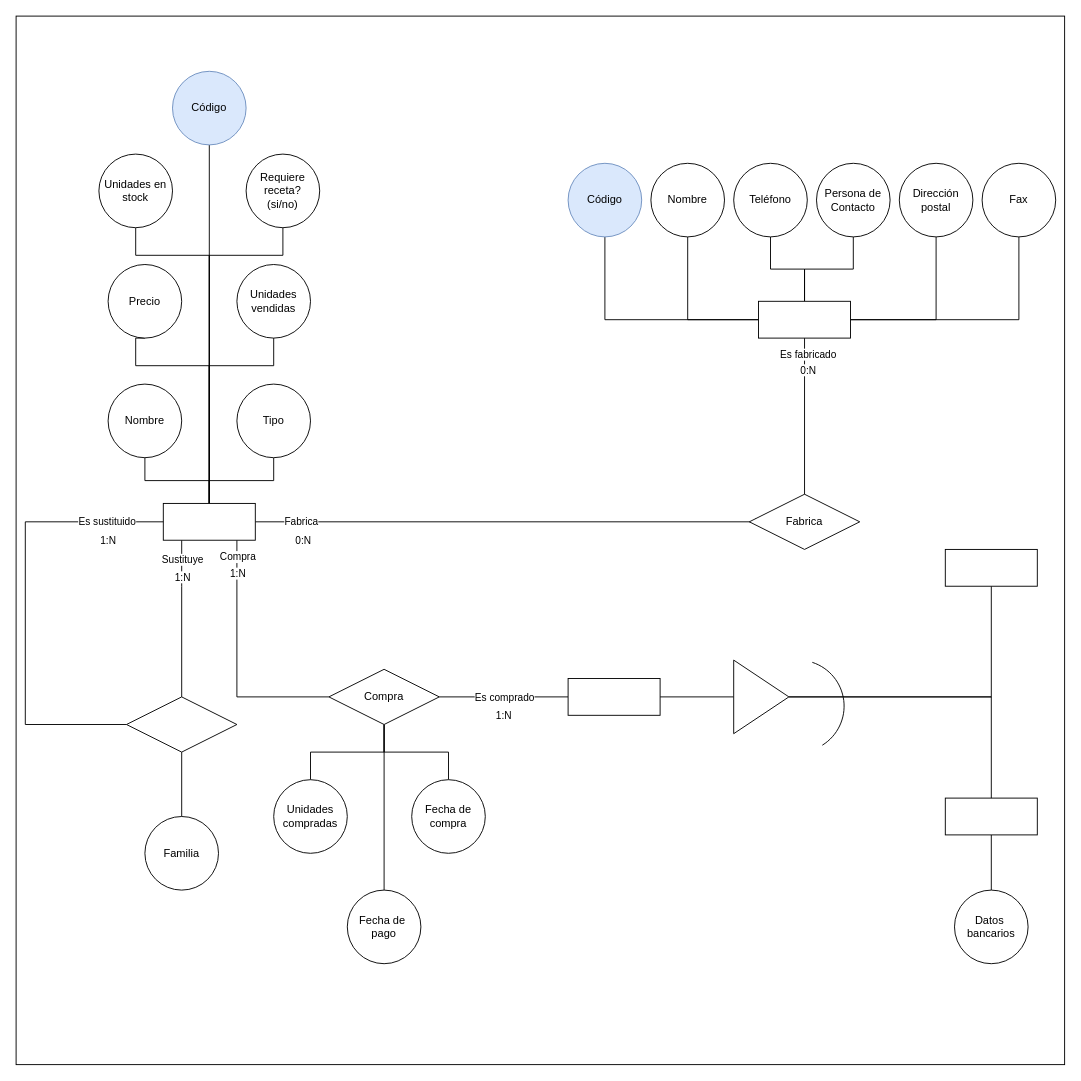
This 1081x1081 diagram has some shape labels left out. The centre of each missing label's shape, as x and y in pixels:
Cliente: the point at 613,696
Cliente con crédito: the point at 990,816
Cliente sin crédito: the point at 990,567
Laboratorio: the point at 804,319
Medicamento: the point at 208,521
Sustitución: the point at 181,724
